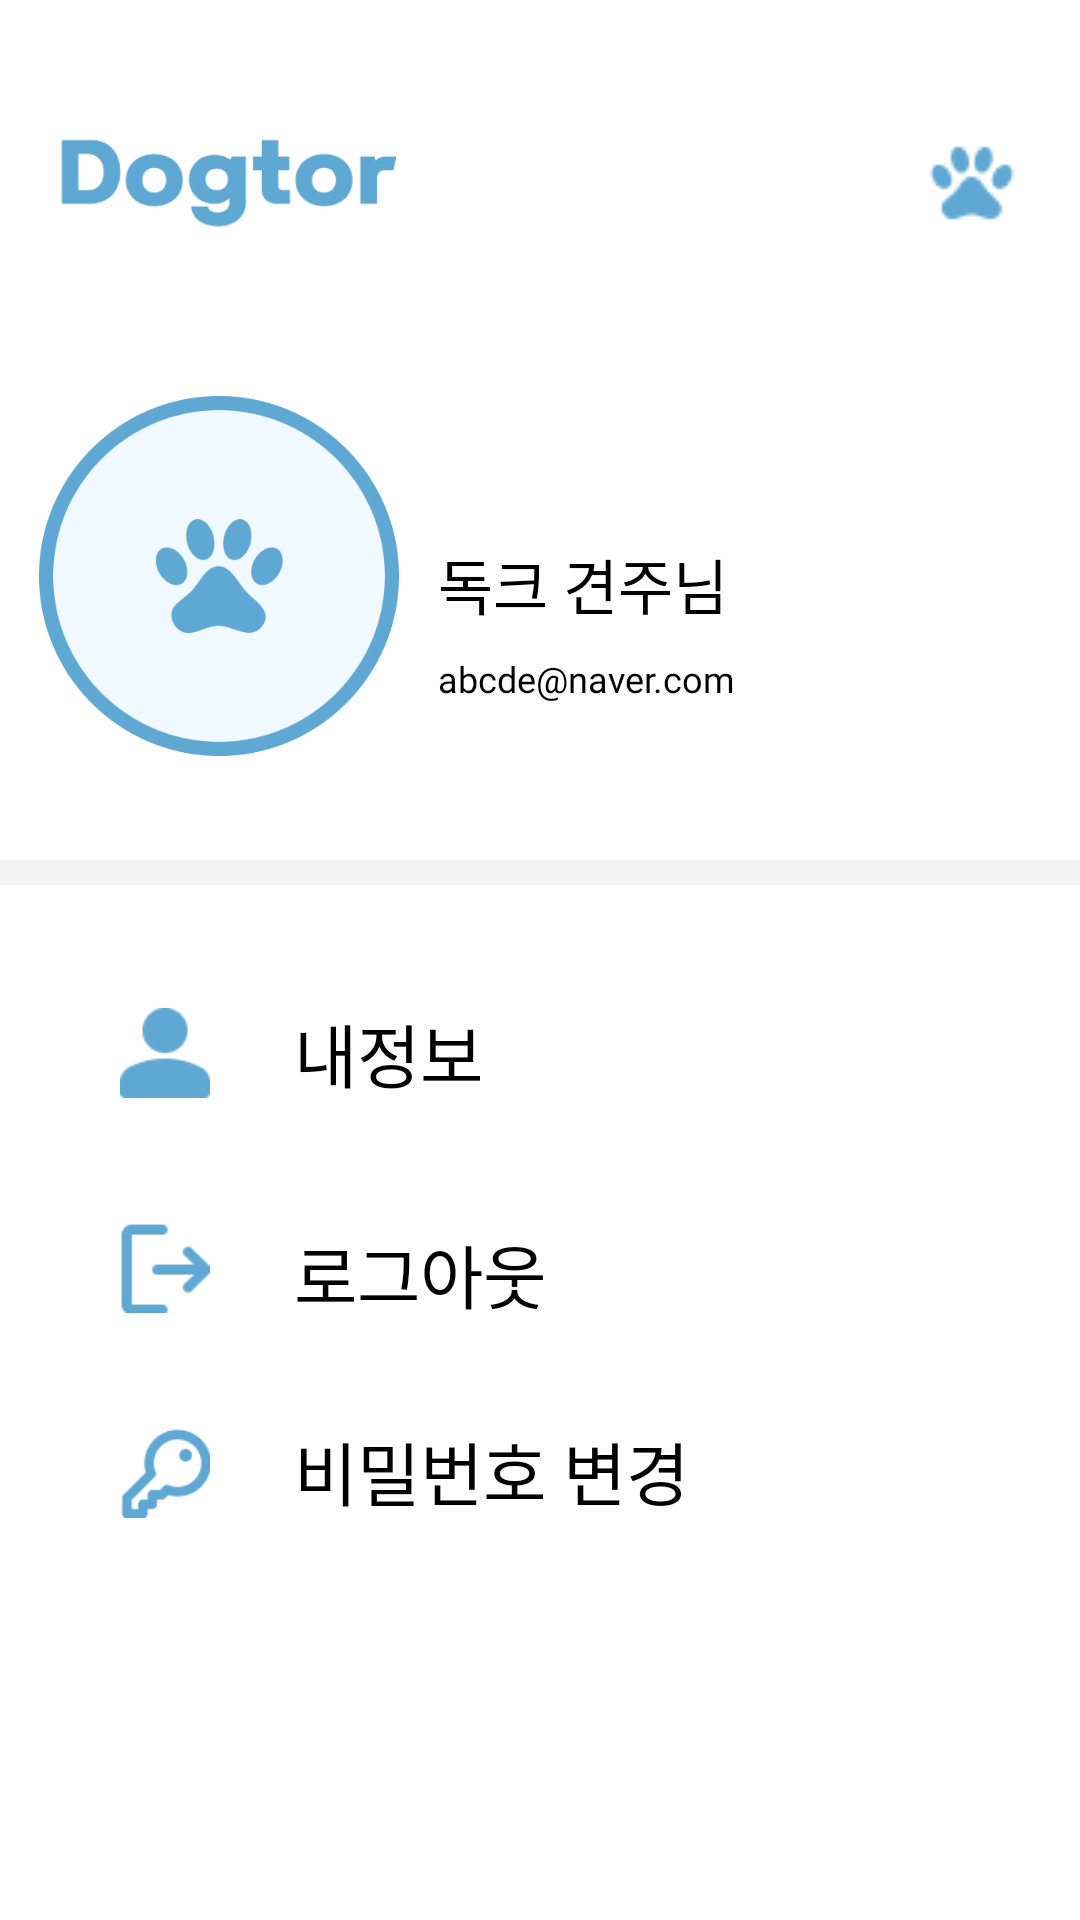

Named icons in this screenshot (1080*1920) and their centers, (x=x, y=y):
myinfo: (x=165, y=1053)
password: (x=165, y=1473)
